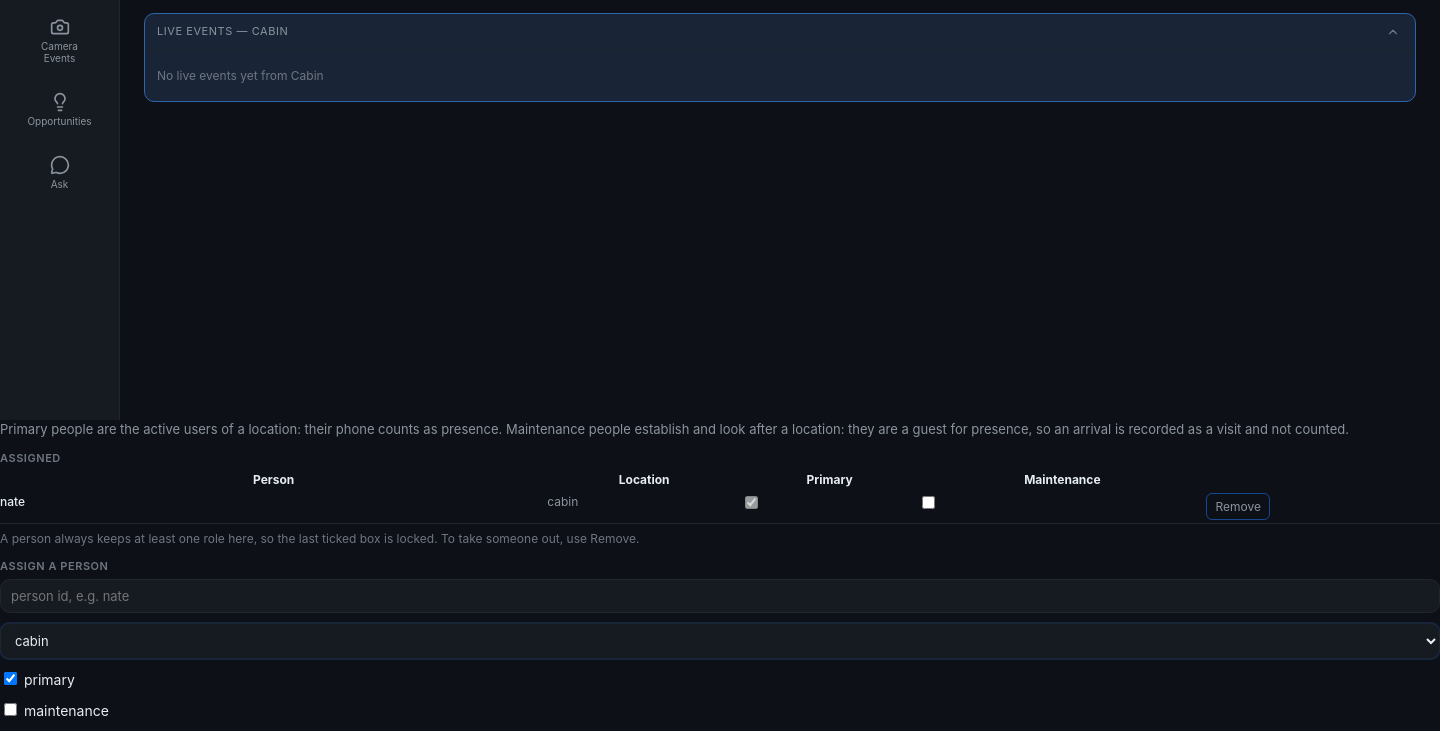
Test: LocationRolesCard › shows the server's message when a save is refused
The image size is (1440, 731).
(page scrolled)
Click the checkbox named "nate maintenance at cabin" at {"x": 929, "y": 502}, box [922,496,935,509]
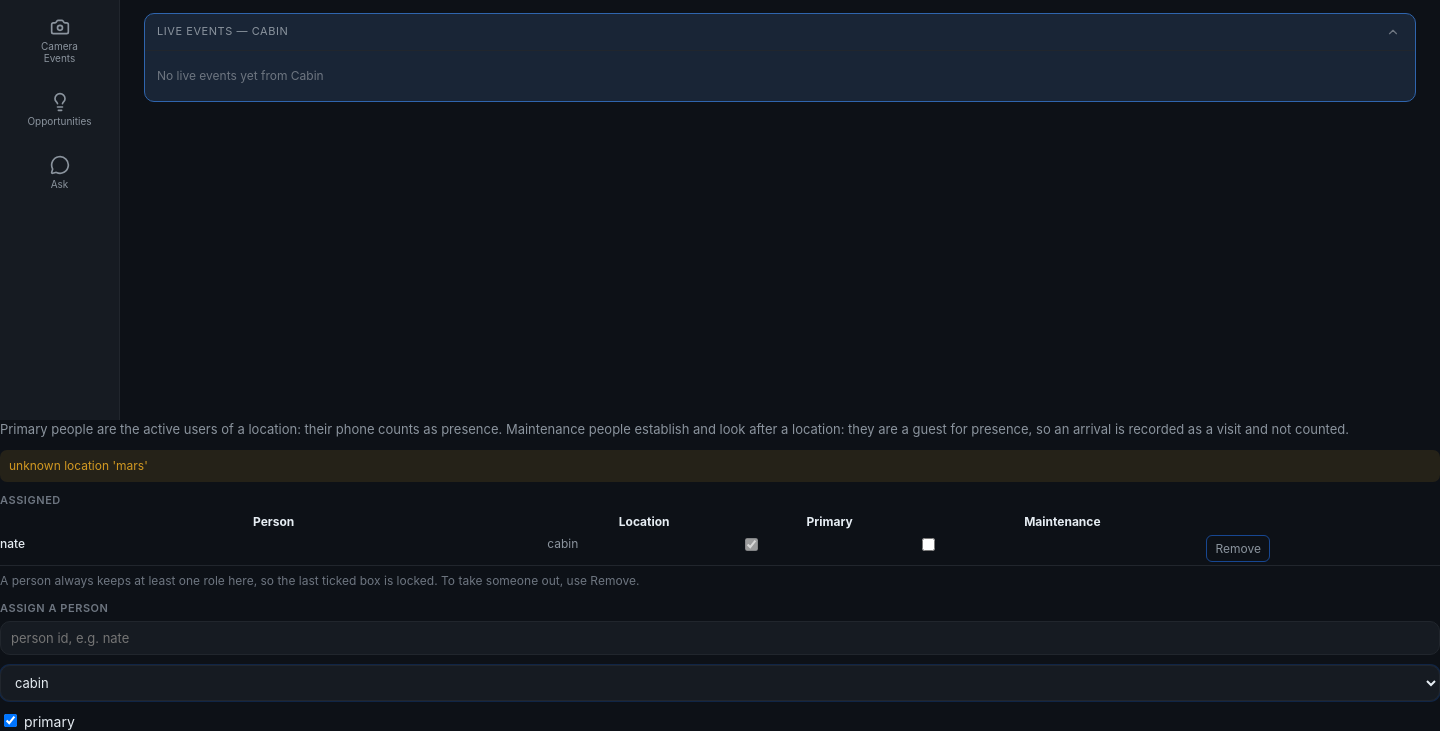
Expected: the message "unknown location 'mars'" is shown, [0,450,1439,482]
Expected: the message reads "unknown location 'mars'", [9,458,148,472]
